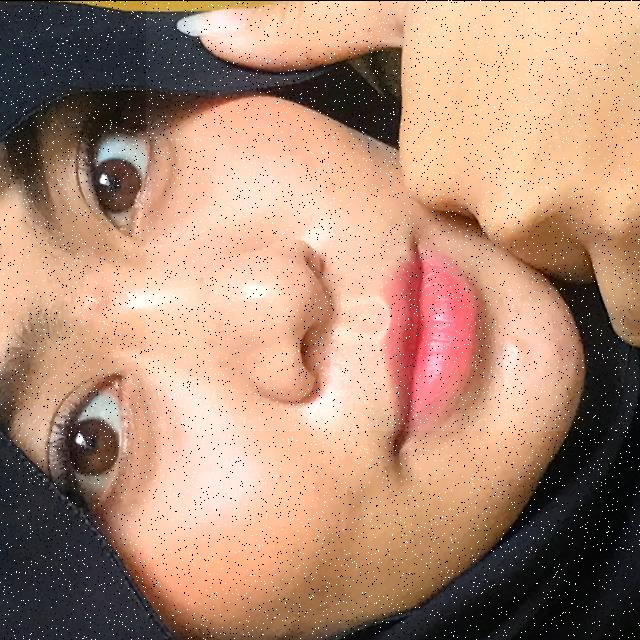telpon: (146, 0, 640, 430)
